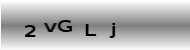2: (23, 24, 38, 39)
G: (56, 19, 73, 33)
L: (84, 22, 97, 37)
j: (107, 22, 117, 39)
v: (44, 22, 57, 32)
